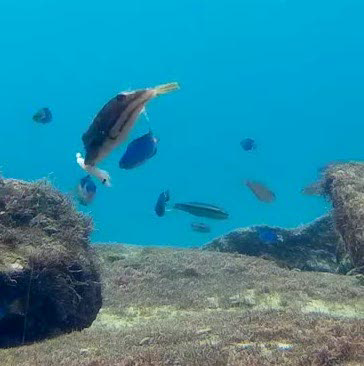bera: (70, 78, 183, 171), (175, 199, 234, 228)
